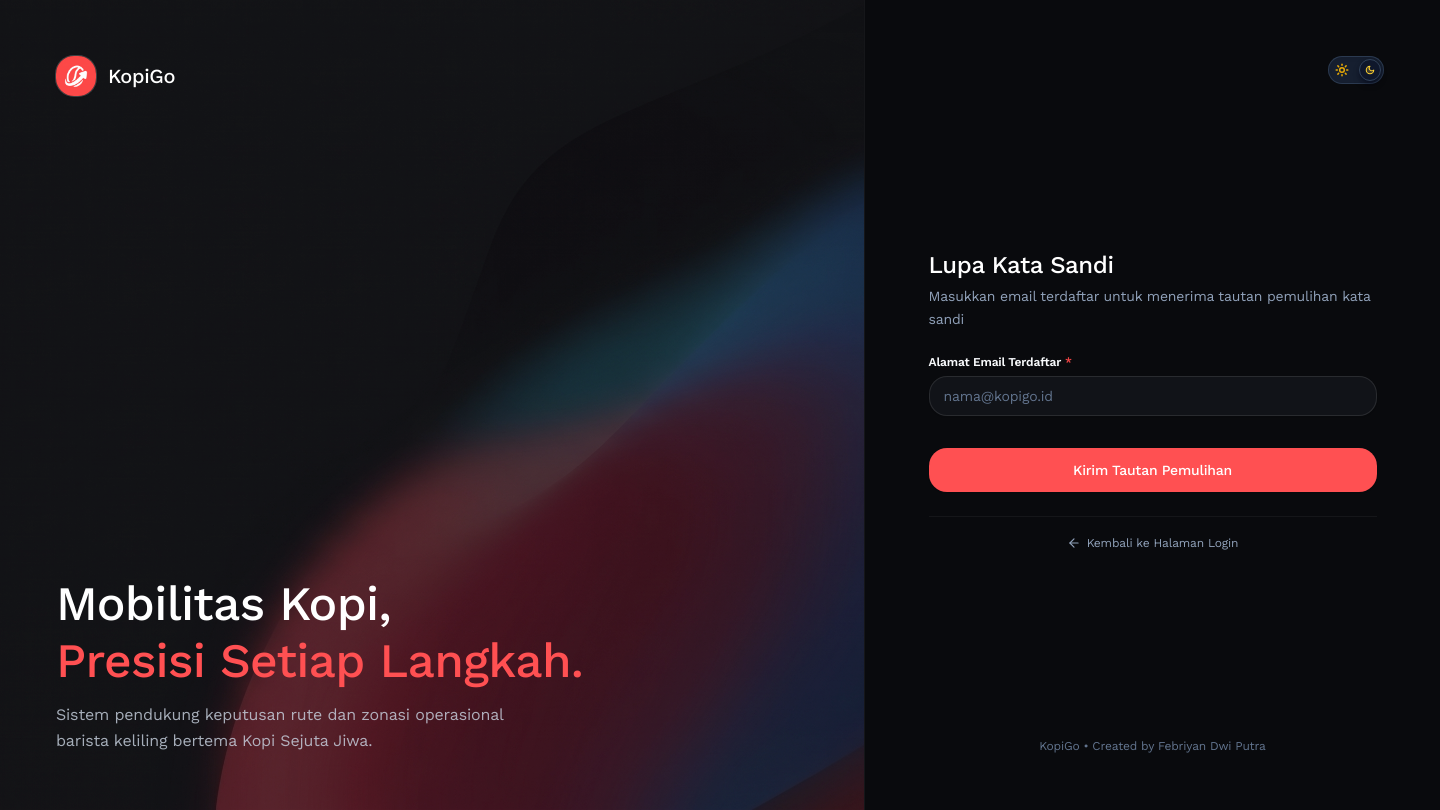
Scenario: 🚀 MOVA Frontend Onboarding Lifecycle Suite › 4️⃣ Layar A4 — ForgotPasswordPage & ResetPasswordPage › submits email and displays recovery confirmation card on ForgotPasswordPage
This screenshot has width=1440, height=810.
Type "operator@mantakopi.com" into the field labelled "Alamat Email Terdaftar *" at (1152, 396), box 928,376 -> 1376,416
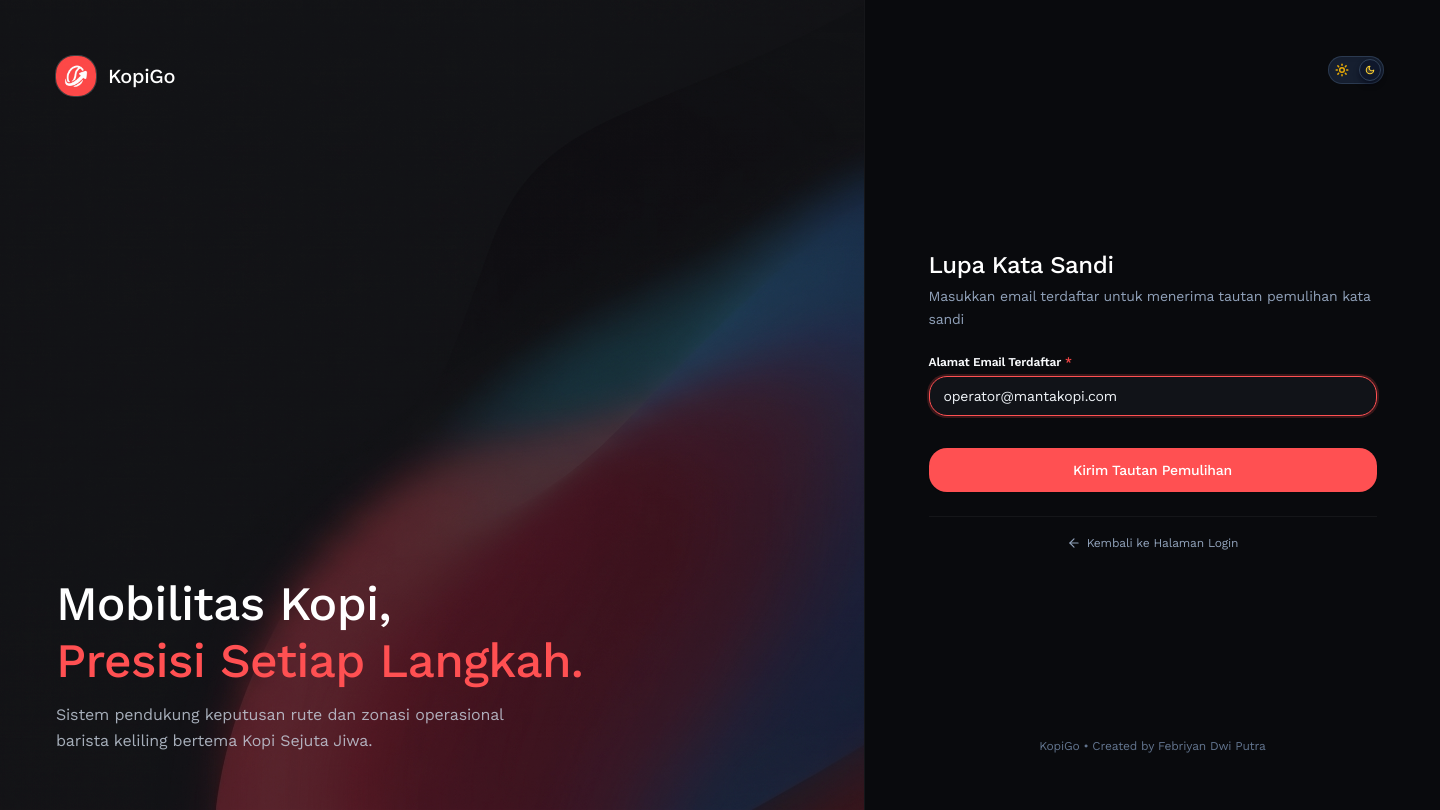
Click the button "Kirim Tautan Pemulihan" at (1152, 470), box 928,448 -> 1376,492
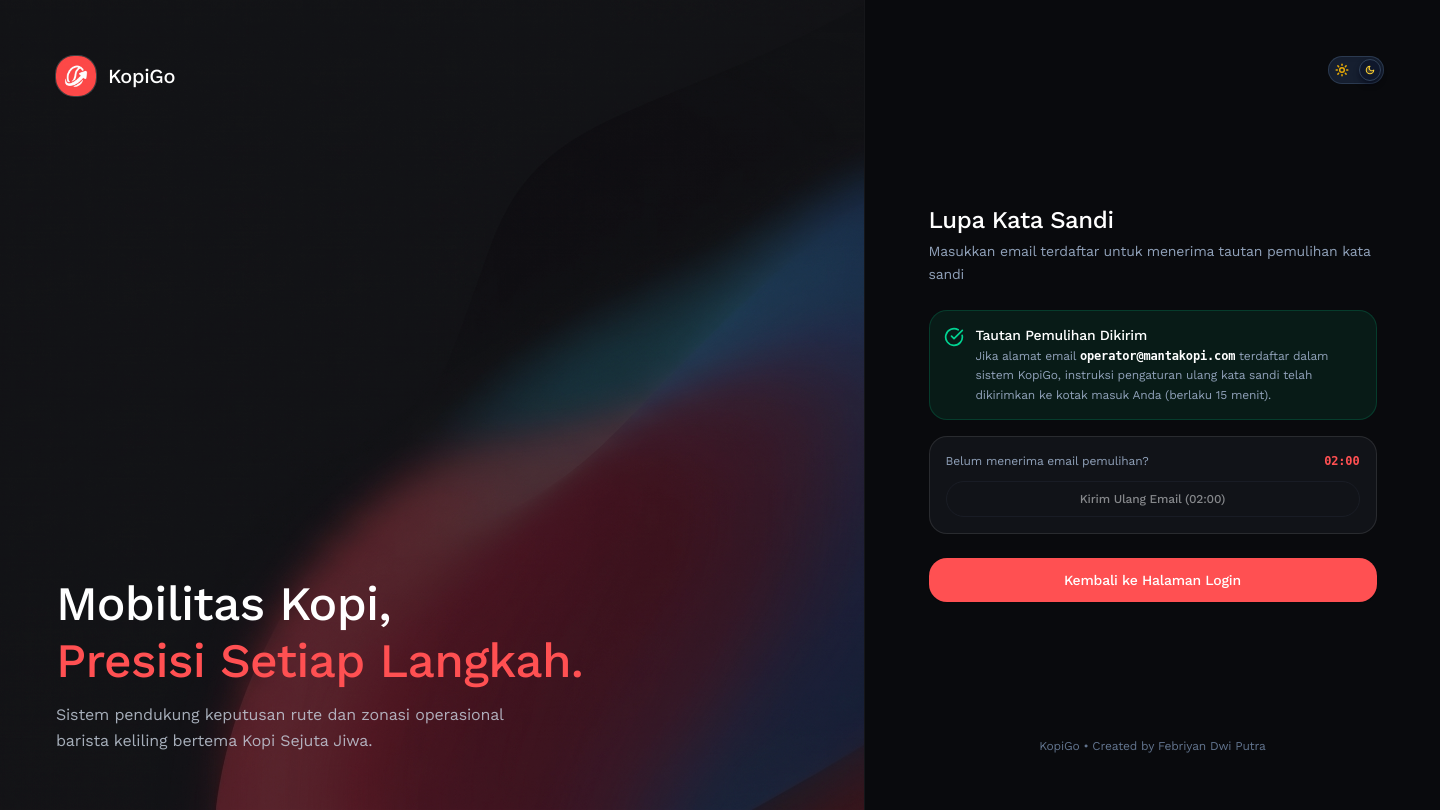
Now the heading "Tautan Pemulihan Dikirim" is shown, box 976,326 -> 1147,342
Now the text "operator@mantakopi.com" is shown, box 1080,348 -> 1235,362
Now the button "Kirim Ulang Email (02:00)" is disabled, box 946,481 -> 1360,517
